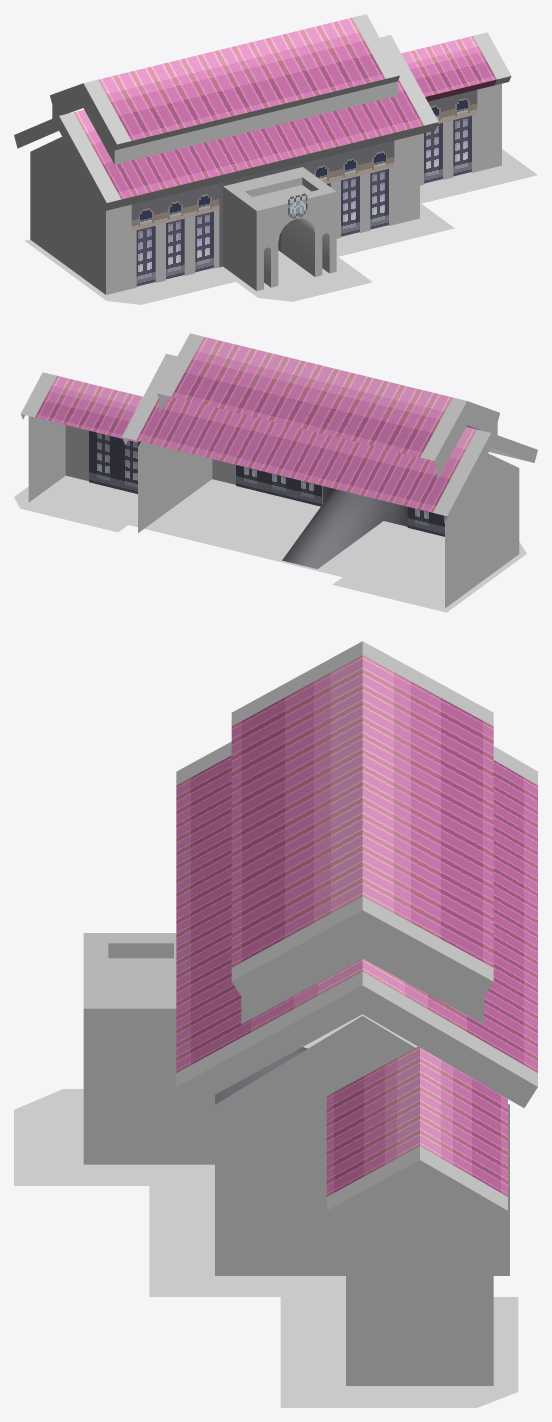
File: Pewter Museum of Science.obj
3 renders of one model, top to bottom at view 1: azimuth 30°, elevation 25°; view 2: azimuth 150°, elevation 25°; view 3: azimuth 270°, elevation 25°, orthographic. The views are drawn at different scales.
Parts seen in each view (by area): view 1: polygon6, polygon11, polygon9, polygon8, polygon7, polygon10, polygon5, polygon4, polygon2, polygon3, polygon0, polygon1; view 2: polygon6, polygon11, polygon9, polygon8, polygon10, polygon2, polygon5, polygon7; view 3: polygon6, polygon11, polygon9, polygon5, polygon7, polygon0.
Part boxes in pixels (x1,y1,x2,y2): polygon6: (74,17,496,199); polygon11: (14,14,511,294); polygon9: (25,149,537,304); polygon8: (136,115,471,286); polygon7: (106,114,501,294); polygon10: (131,90,477,267); polygon5: (52,85,383,164); polygon4: (118,79,423,207); polygon2: (106,108,501,280); polygon3: (106,83,501,237); polygon0: (252,185,310,203); polygon1: (288,193,307,218); polygon6: (35,337,476,512); polygon11: (20,333,537,608); polygon9: (14,475,526,612); polygon8: (89,430,447,536); polygon10: (282,486,407,568); polygon2: (65,425,235,471); polygon5: (159,394,497,480); polygon7: (65,462,322,504); polygon6: (176,655,537,1196); polygon11: (83,641,537,1385); polygon9: (14,1014,518,1407); polygon5: (241,930,483,1024); polygon7: (83,1140,214,1164); polygon0: (108,958,173,998).
Size of the model in its own units: 251 by 95.52 by 128.
